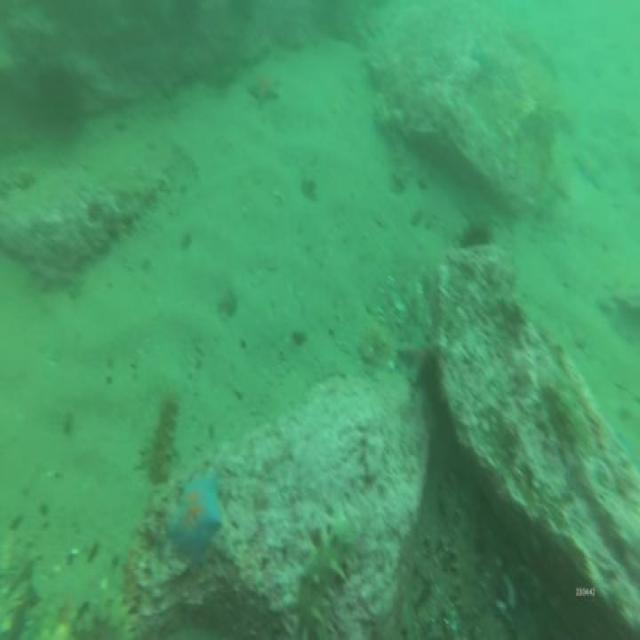echinus: (34, 62, 84, 142)
holothurian: (297, 515, 355, 632), (449, 476, 485, 620), (147, 390, 181, 478), (68, 600, 134, 640)
starfish: (171, 476, 221, 562), (401, 326, 435, 387), (250, 68, 278, 107)
